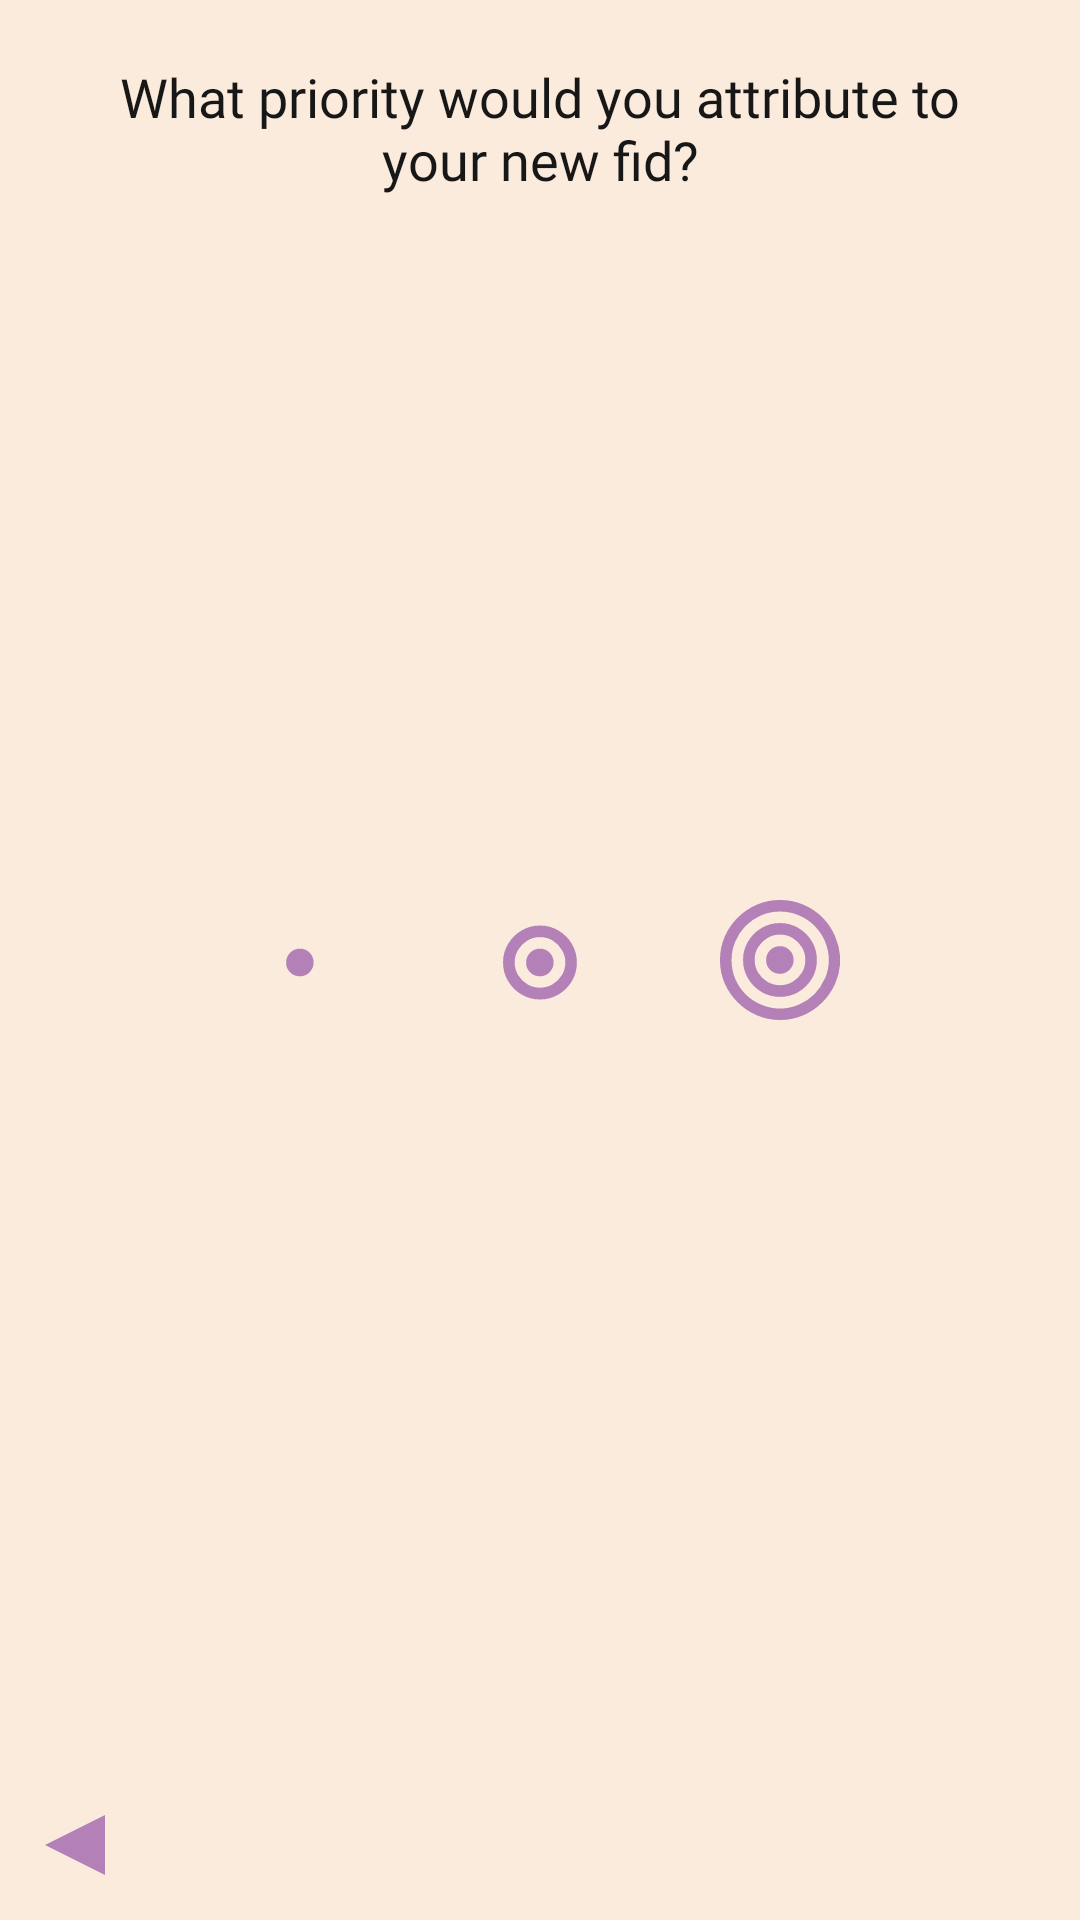

Icon bounding boxes for this 1080 × 1920 phone screenshot, format rect(x1, y1, x2, y2):
circle: rect(286, 948, 314, 977)
navigation button: rect(45, 1815, 105, 1875)
three circle: rect(720, 900, 840, 1020)
two circles: rect(503, 925, 577, 1000)
